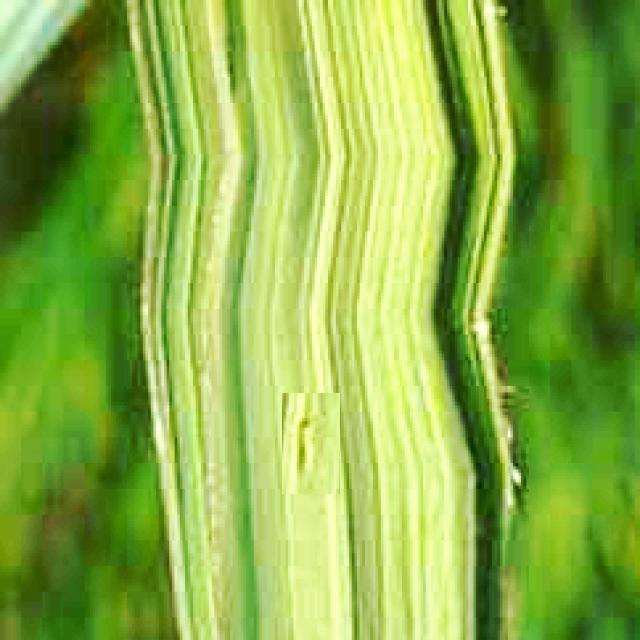leaf-folder: (282, 393, 340, 494)
